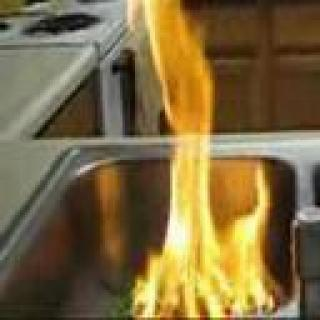fire: (110, 0, 278, 319)
